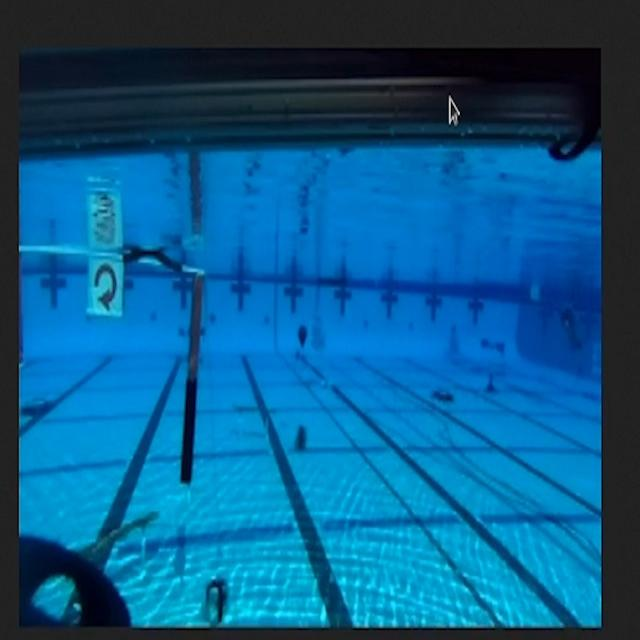Gate: (29, 230, 205, 486)
